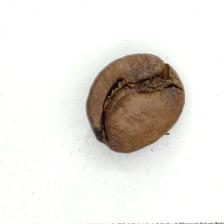NG: (100, 57, 173, 139)
